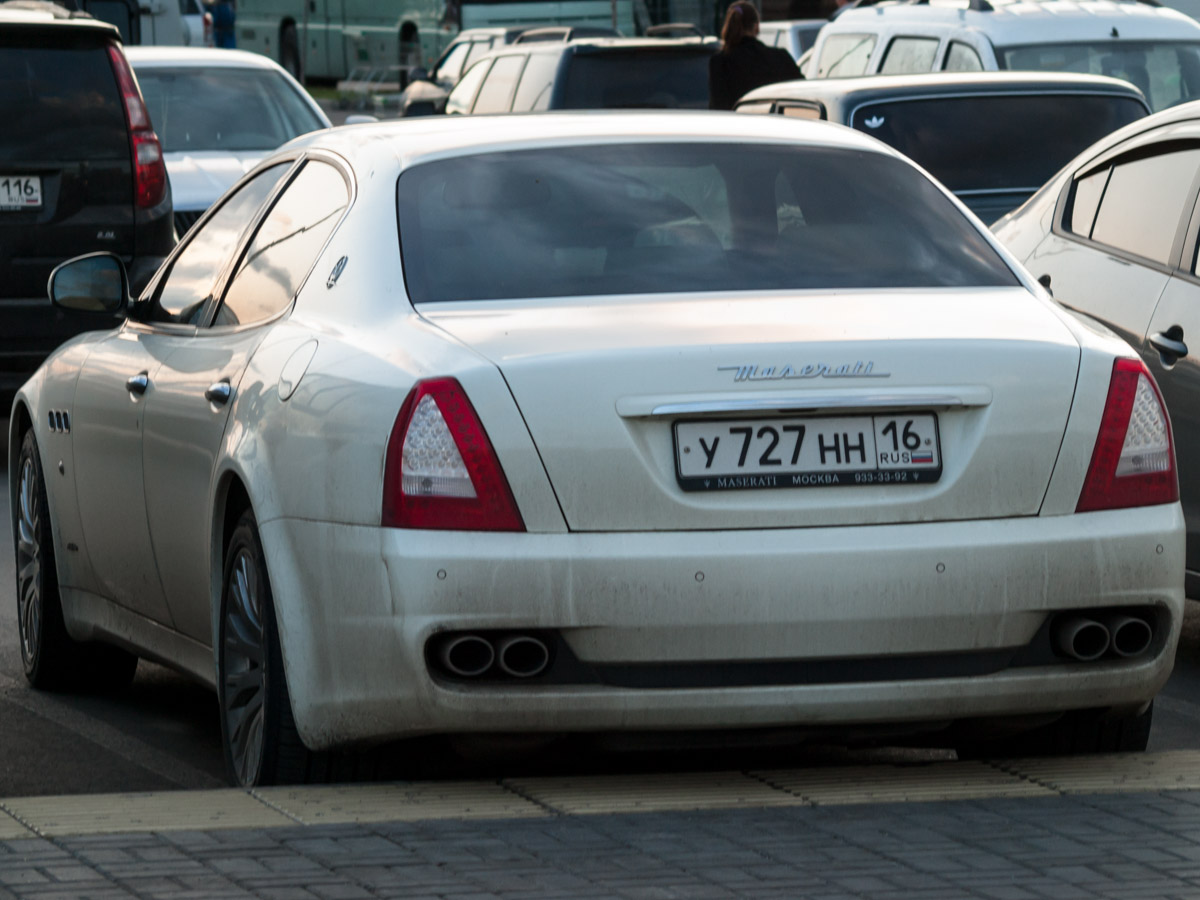number_plate: (638, 401, 937, 501)
